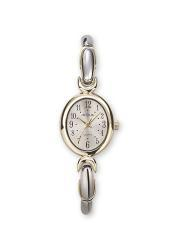watch: (58, 84, 119, 177)
